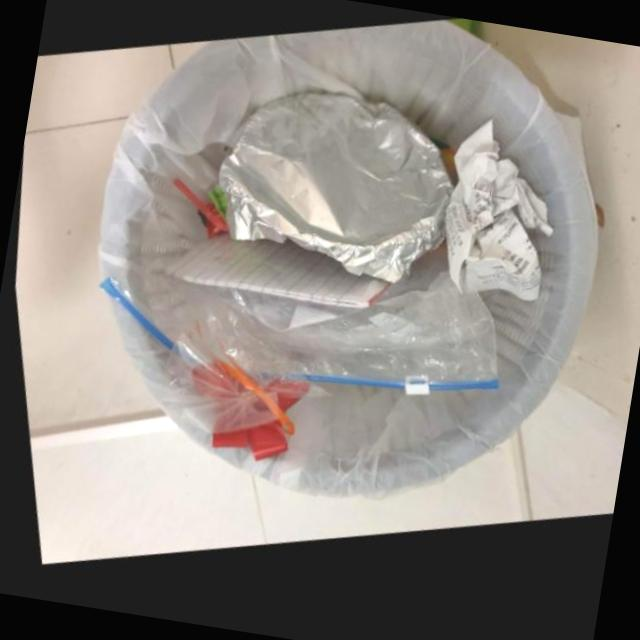giay: (439, 128, 546, 310), (160, 237, 383, 314)
nhom: (213, 98, 447, 290)
ong_hut_nhua: (168, 180, 222, 233)
tui_ni_long: (91, 252, 489, 401)
